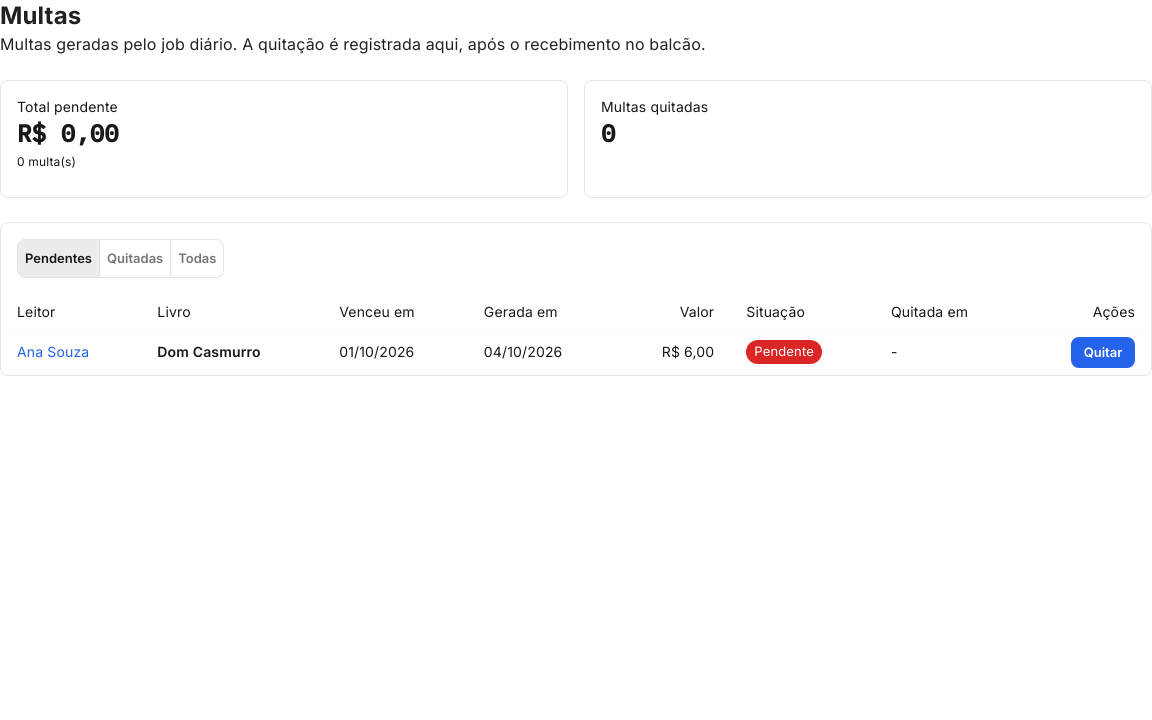
visão do bibliotecário › quita a multa depois da confirmação e recarrega a lista
Click the button "Quitar". click: coordinates (1103, 352)
box: [1071,337,1135,368]
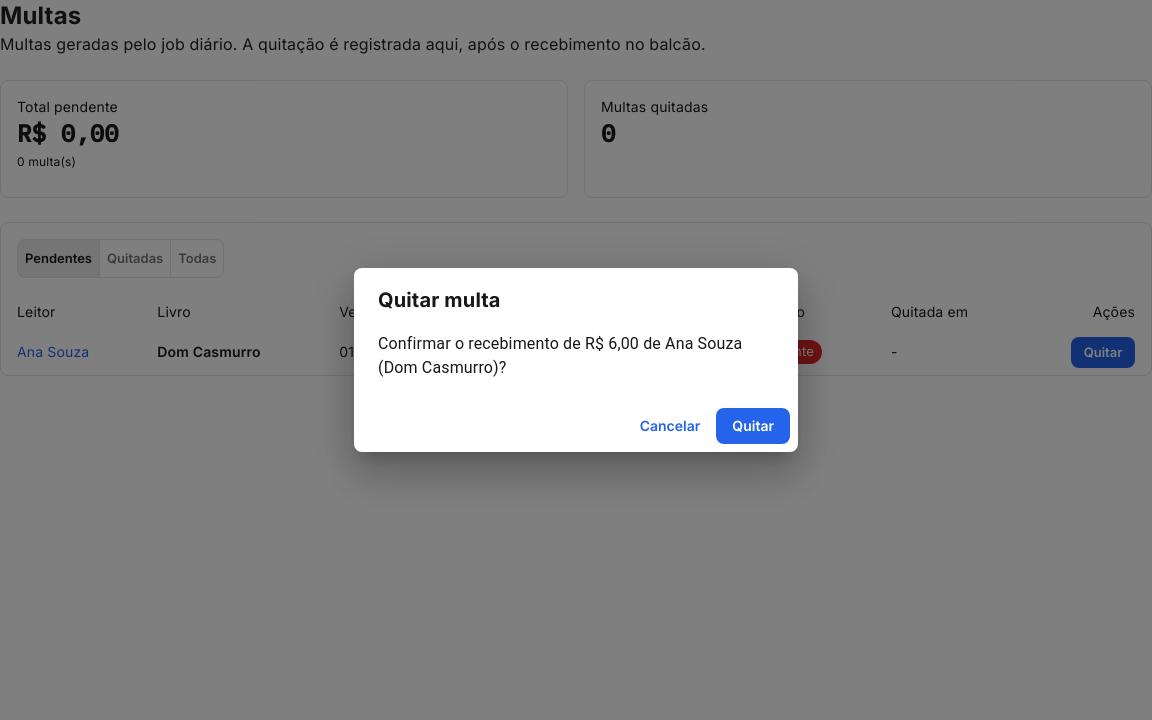
Click the button "Quitar". click: coordinates (753, 426)
box: [716,408,790,444]
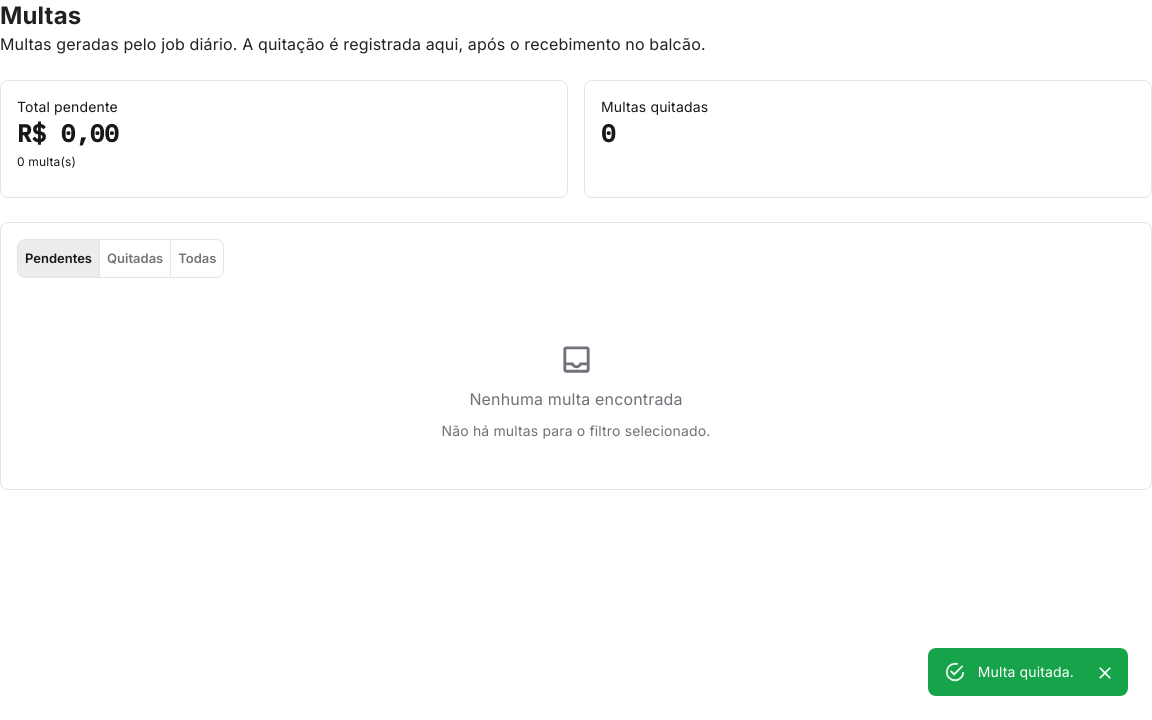
Now the heading "Nenhuma multa encontrada" is shown, box [469,385,683,413]
